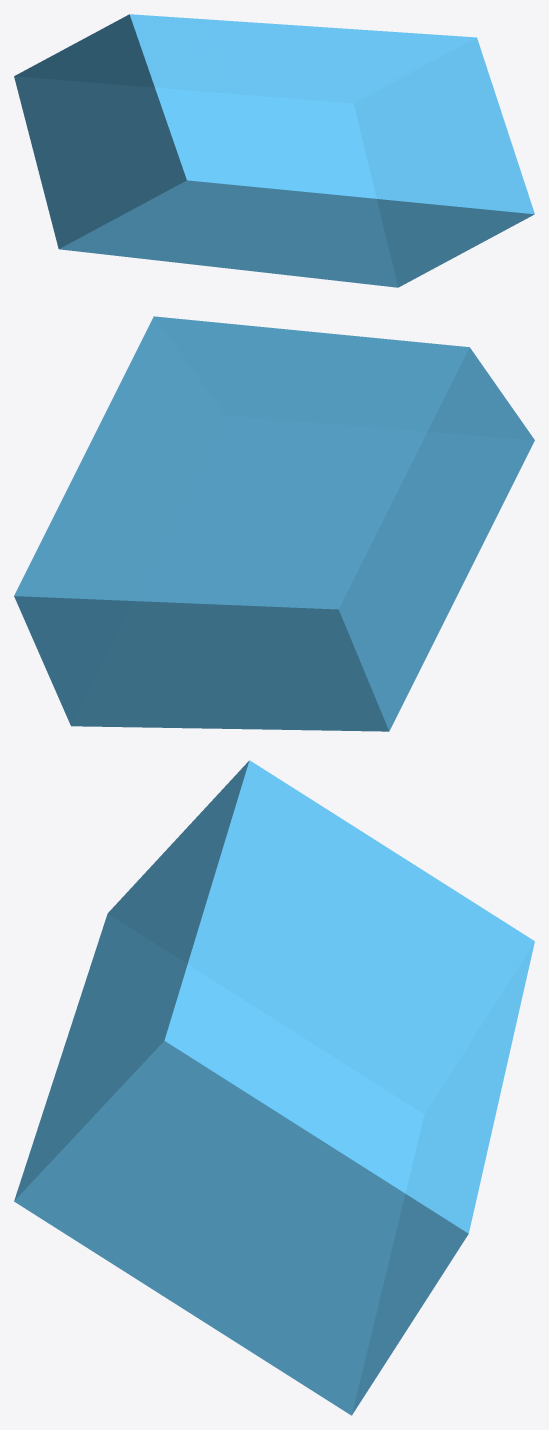
File: Event_421278790_HErechit_35.fbx
The picture shows the model from 3 angles, top to bottom: view 1: azimuth 30°, elevation 25°; view 2: azimuth 150°, elevation 25°; view 3: azimuth 270°, elevation 25°; orthographic projection. The views are drawn at different scales.
Visible parts, largest first — view 1: Model; view 2: Model; view 3: Model.
Part boxes in pixels (left/top/right/bottom): Model: left=14, top=14, right=534, bottom=287; Model: left=14, top=316, right=534, bottom=731; Model: left=14, top=760, right=534, bottom=1415.
Bounding box in the file's own units: 0.7337 × 0.85 × 0.8562.
